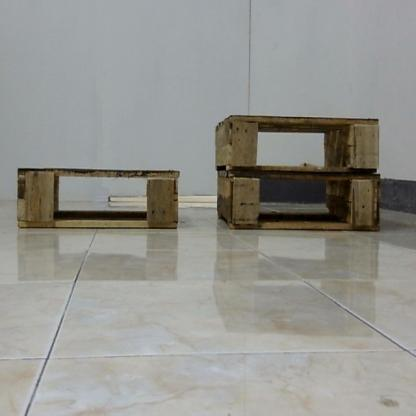Wooden-Pallet: (17, 165, 178, 229), (213, 113, 380, 174), (216, 172, 380, 231)
